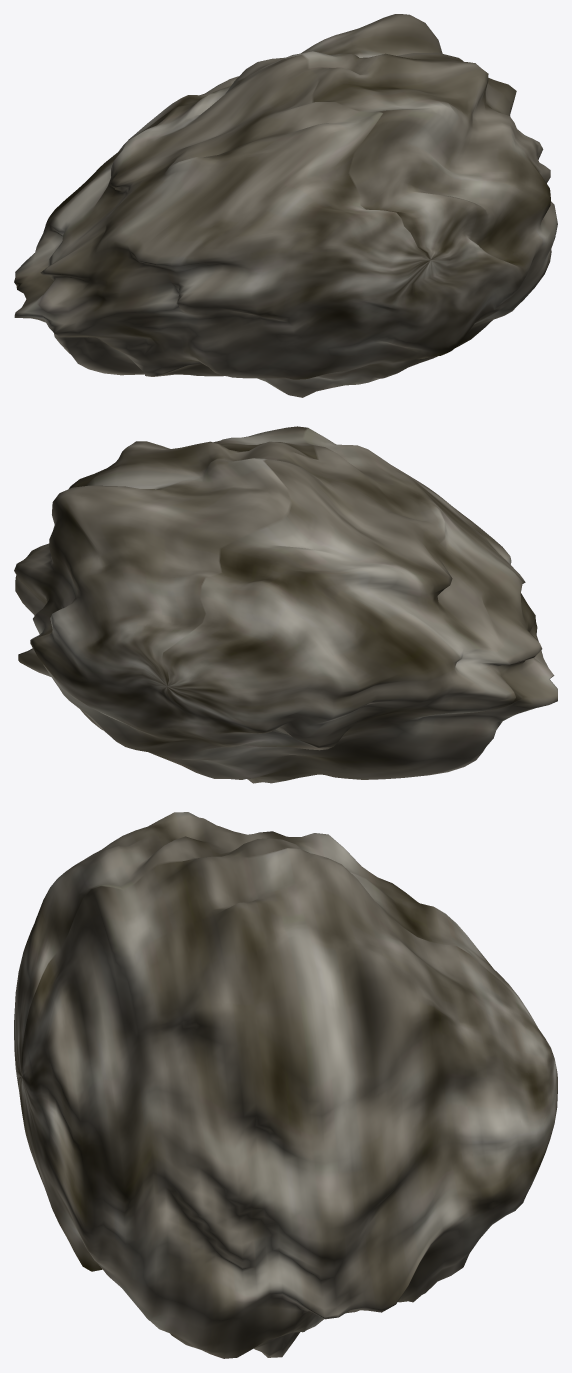
The model's file is asteroid OBJ.obj.
3 renders of one model, top to bottom at view 1: azimuth 30°, elevation 25°; view 2: azimuth 150°, elevation 25°; view 3: azimuth 270°, elevation 25°, orthographic. The views are drawn at different scales.
Parts seen in each view (by area): view 1: Sphere01; view 2: Sphere01; view 3: Sphere01.
Part boxes in pixels (left/top/right/bottom): Sphere01: left=14, top=14, right=557, bottom=397; Sphere01: left=14, top=426, right=557, bottom=783; Sphere01: left=14, top=812, right=557, bottom=1358.
Bounding box in the file's own units: 38.96 × 23.07 × 24.9.
1 material, 1 textured.
